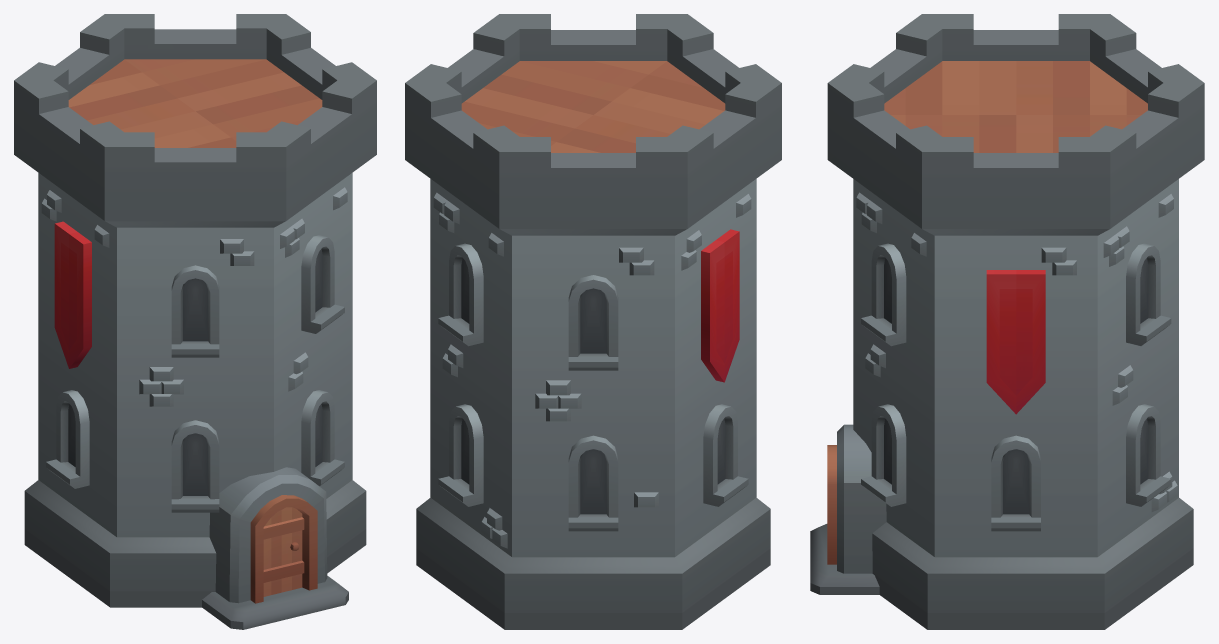
File: kaykit-medieval-hexagon-pack-building-tower-base-red.glb
3 views of the same model, side by side, from view 1: azimuth 30°, elevation 25°; view 2: azimuth 150°, elevation 25°; view 3: azimuth 270°, elevation 25° (orthographic). The views are drawn at different scales.
Parts seen in each view (by area): view 1: building_tower_base_red; view 2: building_tower_base_red; view 3: building_tower_base_red.
Boxes of the visible parts, <box> form: building_tower_base_red: <box>14,14,376,629</box>; building_tower_base_red: <box>405,14,781,629</box>; building_tower_base_red: <box>810,14,1204,629</box>.
Bounding box in the file's own units: 0.9297 × 1.5 × 1.11.
Materials: 1 (1 with a texture image).
